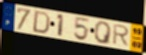1: (56, 14, 65, 39)
5: (74, 16, 92, 42)
7: (16, 7, 32, 31)
D: (31, 10, 52, 35)
Q: (93, 21, 113, 46)
R: (111, 24, 131, 48)
